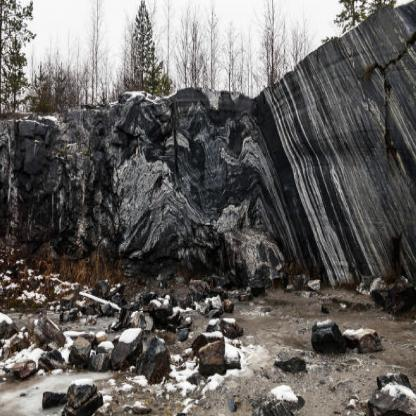Metamorphic_Marble: (94, 146, 204, 274), (224, 190, 282, 272), (301, 320, 386, 350), (361, 377, 415, 415), (134, 342, 175, 384), (198, 328, 236, 370), (59, 385, 109, 415), (257, 384, 300, 415)
